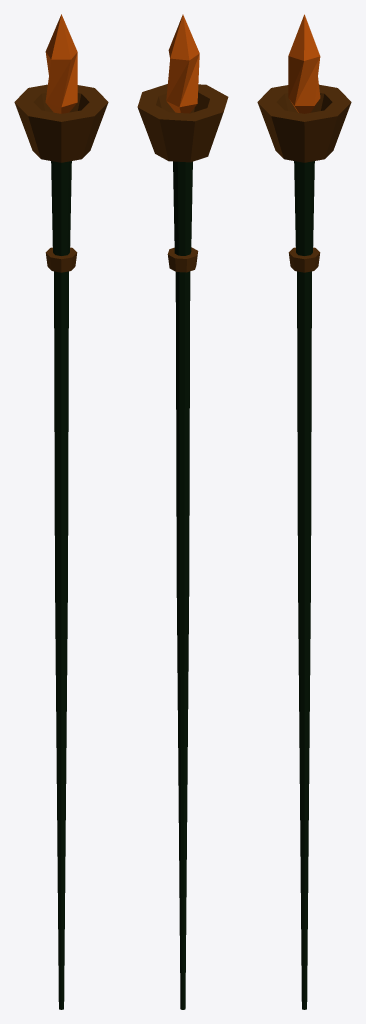
Rendered from mage_staff.fbx.
The picture shows the model from 3 angles, left to right: view 1: azimuth 90°, elevation 25°; view 2: azimuth 150°, elevation 25°; view 3: azimuth 270°, elevation 25°; orthographic projection.
Parts seen in each view (by area): view 1: Mage staff; view 2: Mage staff; view 3: Mage staff.
Boxes of the visible parts, x1,y1,x2,y2 form: Mage staff: (14,14,108,1009); Mage staff: (137,14,228,1009); Mage staff: (257,14,351,1009).
Bounding box in the file's own units: 24.91 × 290 × 24.91.
